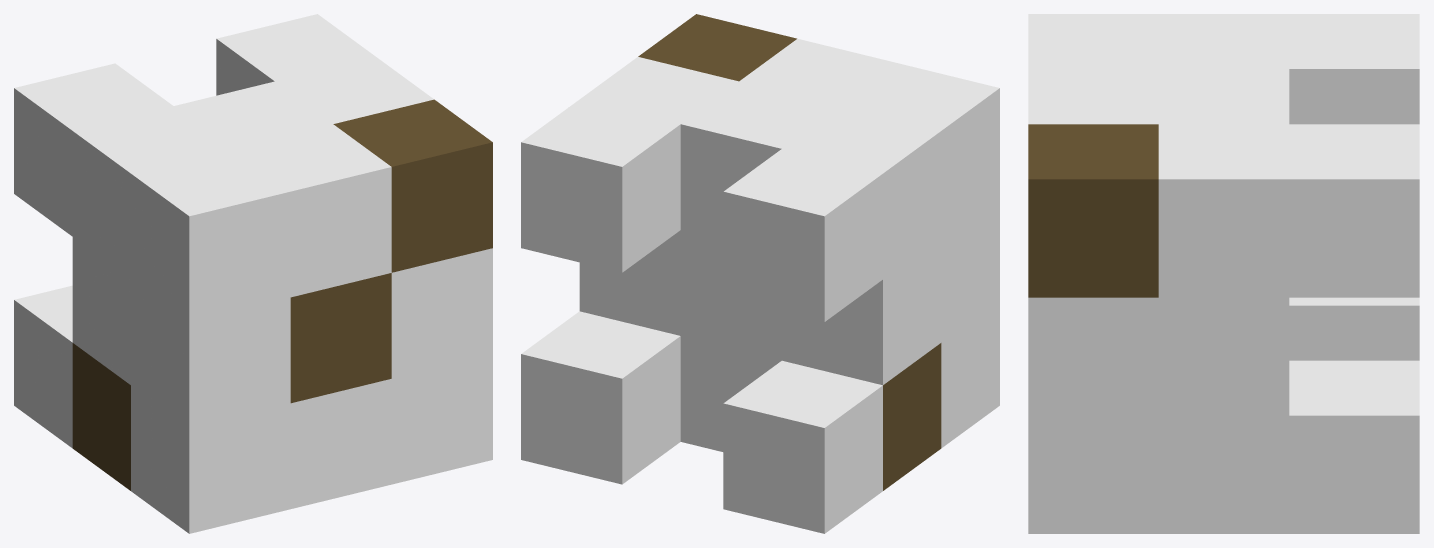
Rendered from carie.obj.
3 views of the same model, side by side, from view 1: azimuth 30°, elevation 25°; view 2: azimuth 150°, elevation 25°; view 3: azimuth 270°, elevation 25° (orthographic). The views are drawn at different scales.
Visible parts, largest first — view 1: carie; view 2: carie; view 3: carie.
Boxes of the visible parts, x1,y1,x2,y2 form: carie: (14, 14, 492, 533); carie: (521, 14, 999, 533); carie: (1028, 14, 1419, 533).
Bounding box in the file's own units: 3 × 3 × 3.
1 material, 1 textured.
